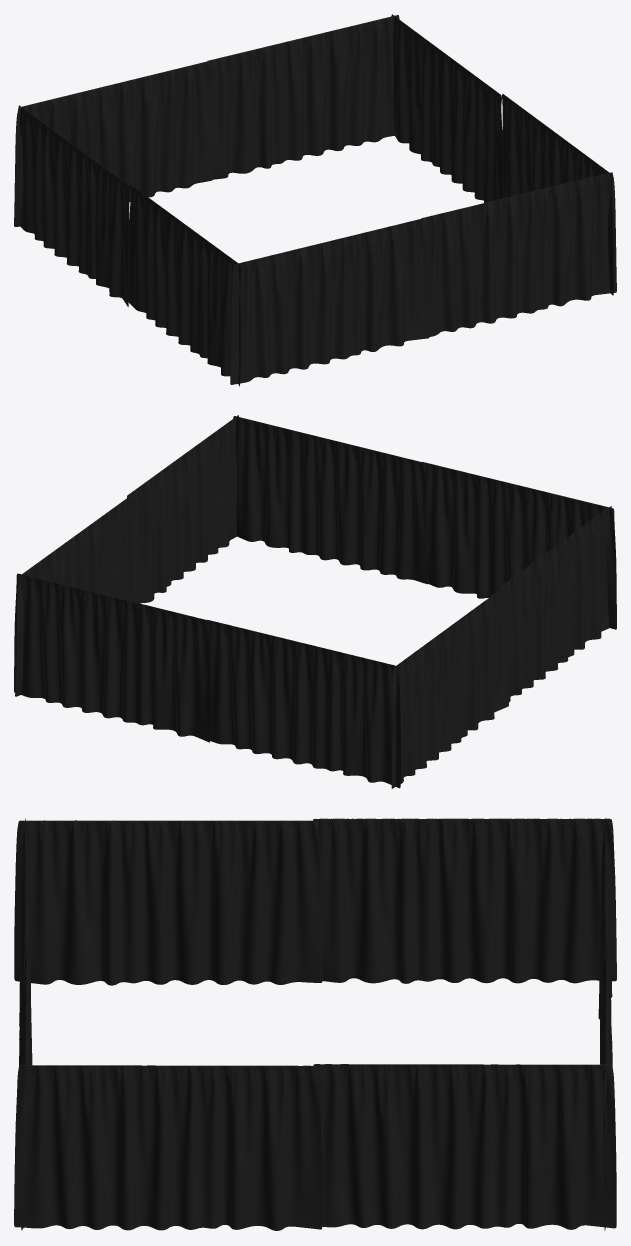
Rendered from curtains-transformed.glb.
3 renders of one model, top to bottom at view 1: azimuth 30°, elevation 25°; view 2: azimuth 150°, elevation 25°; view 3: azimuth 270°, elevation 25°, orthographic. The views are drawn at different scales.
Visible parts, largest first — view 1: Studio Setup_Curtain_3.001; view 2: Studio Setup_Curtain_3.001; view 3: Studio Setup_Curtain_3.001.
Part boxes in pixels (left/top/right/bottom): Studio Setup_Curtain_3.001: left=14, top=14, right=616, bottom=386; Studio Setup_Curtain_3.001: left=14, top=415, right=616, bottom=788; Studio Setup_Curtain_3.001: left=14, top=818, right=616, bottom=1230.
Size of the model in its own units: 10.05 by 2.99 by 10.04.
Materials: 1 (1 with a texture image).
